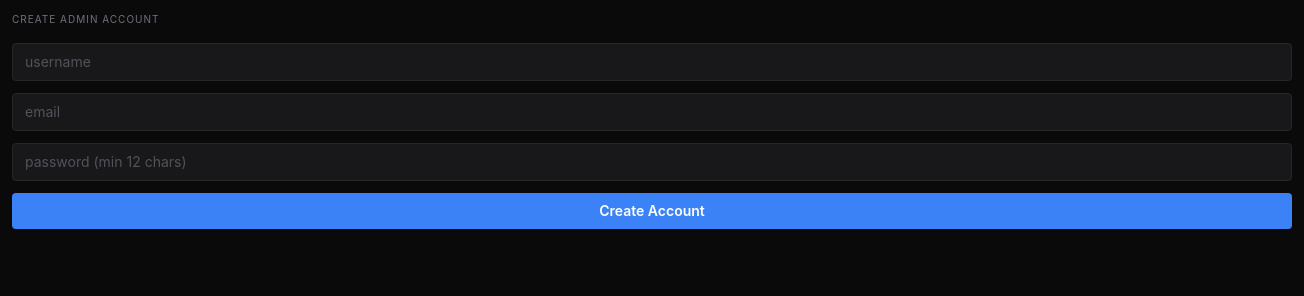
Scenario: SetupPage › shows generic error for non-Error rejection
The width and height of the screenshot is (1304, 296).
Type "admin" into the field with placeholder "username" at (652, 62), box top-left (12, 43), bottom-right (1292, 81)
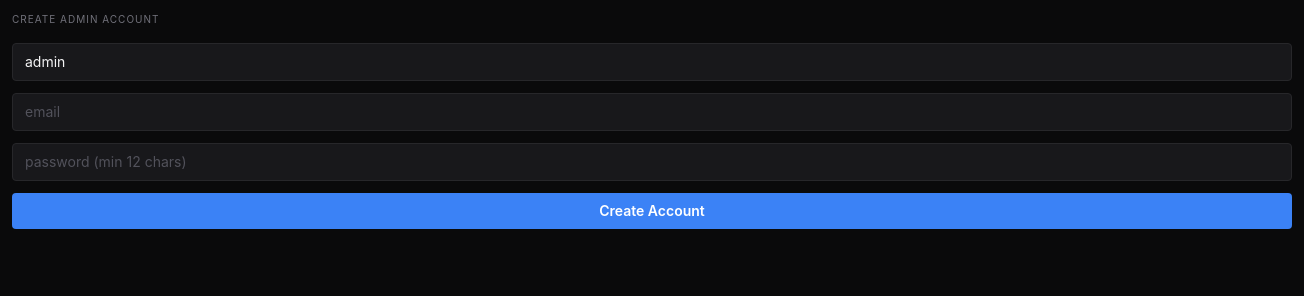
Type "a@b.com" into the field with placeholder "email" at (652, 112), box top-left (12, 93), bottom-right (1292, 131)
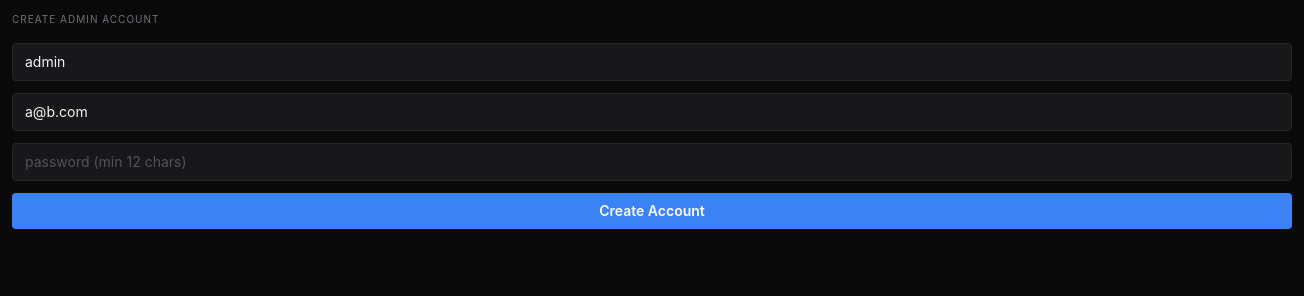
Type "ValidPass1@#$" into the password field with placeholder "password (min 12 chars)" at (652, 162), box top-left (12, 143), bottom-right (1292, 181)
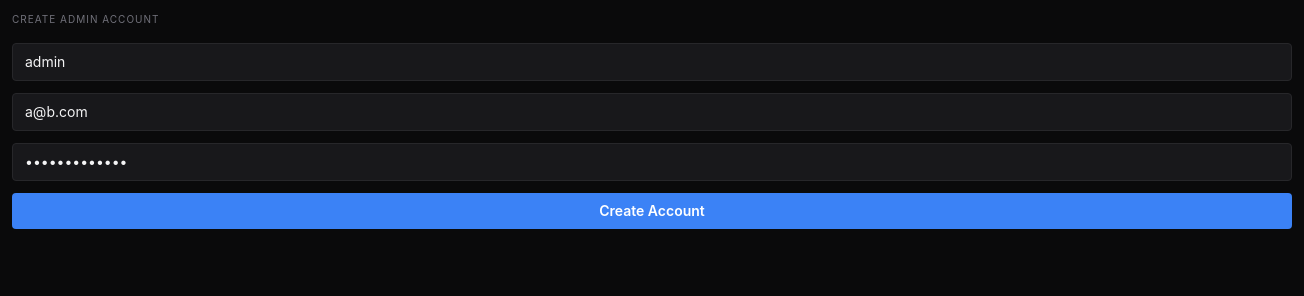
Submit the form "Create Admin Account Create Account"
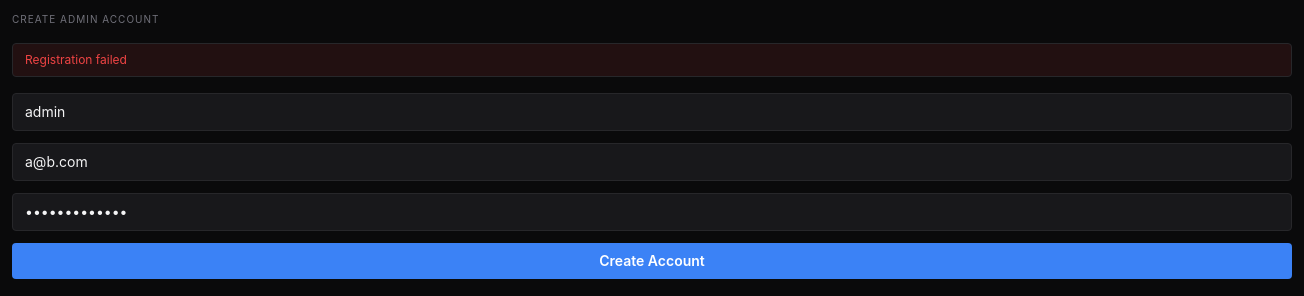
Now the text "Registration failed" is shown, box top-left (12, 43), bottom-right (1292, 77)
